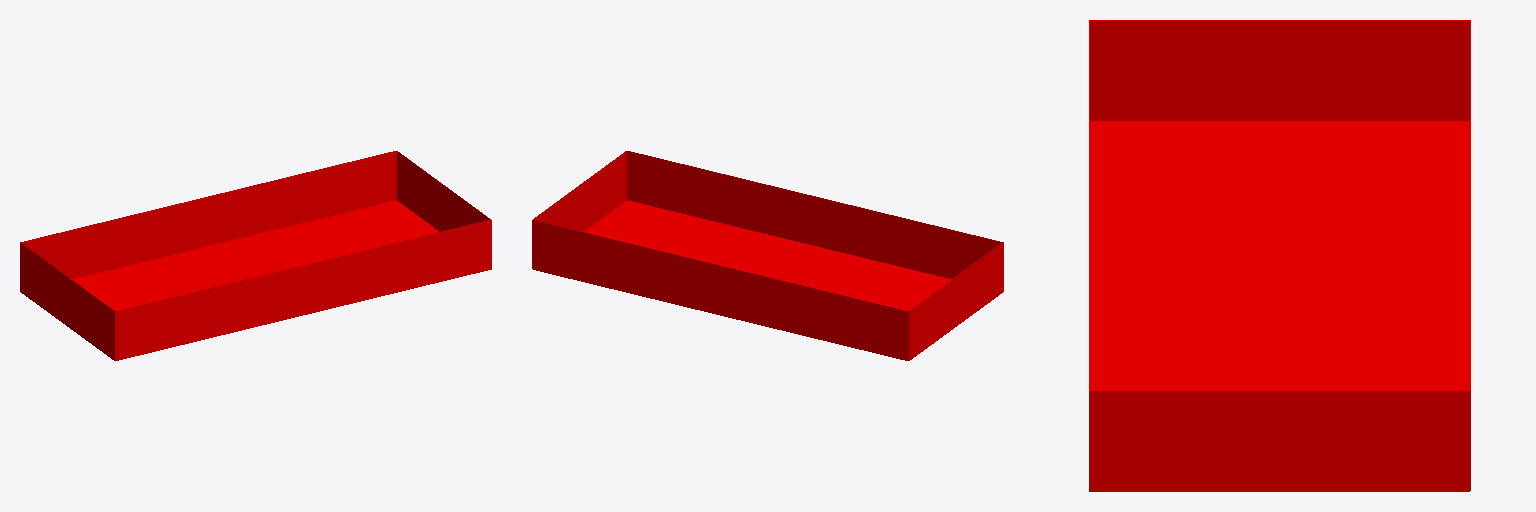
robot.urdf — square.urdf:
<?xml version="1.0" ?>
<robot name="square.urdf">
  <link name="baseLink">
    <contact>
      <lateral_friction value="1.0"/>
      <inertia_scaling value="3.0"/>
    </contact>
    <inertial>
      <origin rpy="0 0 0" xyz="0 0 0"/>
       <mass value=".1"/>
       <inertia ixx="1" ixy="0" ixz="0" iyy="1" iyz="0" izz="1"/>
    </inertial>
    <visual>
      <origin rpy="0 0 0" xyz="0 0 0"/>
      <geometry>
        <mesh filename="9.stl" scale="1 1 1" />
      </geometry>
      <material name="red">
        <color rgba="1 0 0 1"/>
      </material>
    </visual>
    <collision>
      <origin rpy="0 0 0" xyz="0 0 0"/>
      <geometry>
        <mesh filename="9_convex.obj" scale="1 1 1" />
      </geometry>
    </collision>
  </link>
</robot>

--- Render facts (derived) ---
The picture shows the robot from 3 angles, left to right: view 1: azimuth 30°, elevation 25°; view 2: azimuth 150°, elevation 25°; view 3: azimuth 270°, elevation 25°; orthographic projection.
Model square.urdf with 1 links and 0 joints (none), rooted at baseLink, posed all joints at 0.
Links seen in each view (by area): view 1: baseLink; view 2: baseLink; view 3: baseLink.
Link boxes in pixels (x1,y1,x2,y2): baseLink: (20, 151, 491, 360); baseLink: (532, 151, 1003, 360); baseLink: (1089, 20, 1470, 491).
Bounding box of the posed robot: 0.8982 × 0.3911 × 0.1138 m (x, y, z).
Meshes: 1 distinct files referenced, 1 mesh visuals loaded (1 binary STL).